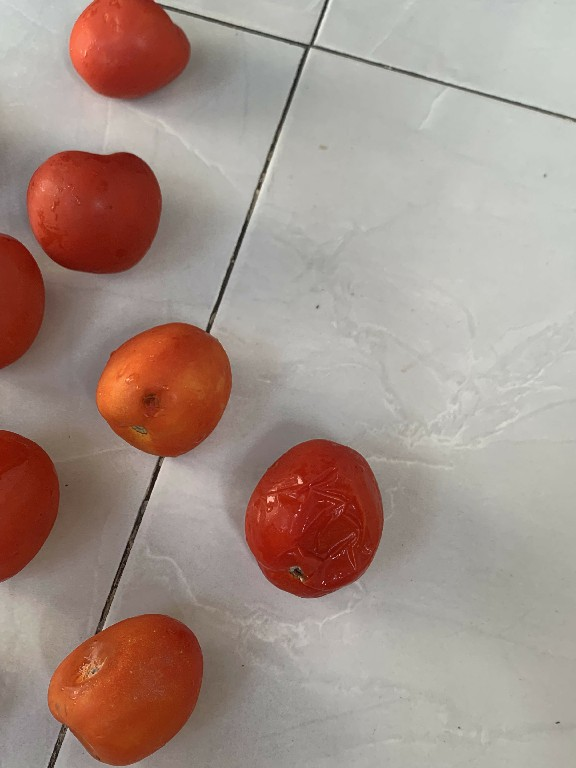NG: (237, 431, 390, 605), (40, 610, 208, 767), (92, 319, 231, 462)
OK: (26, 147, 164, 284), (61, 0, 192, 102)
